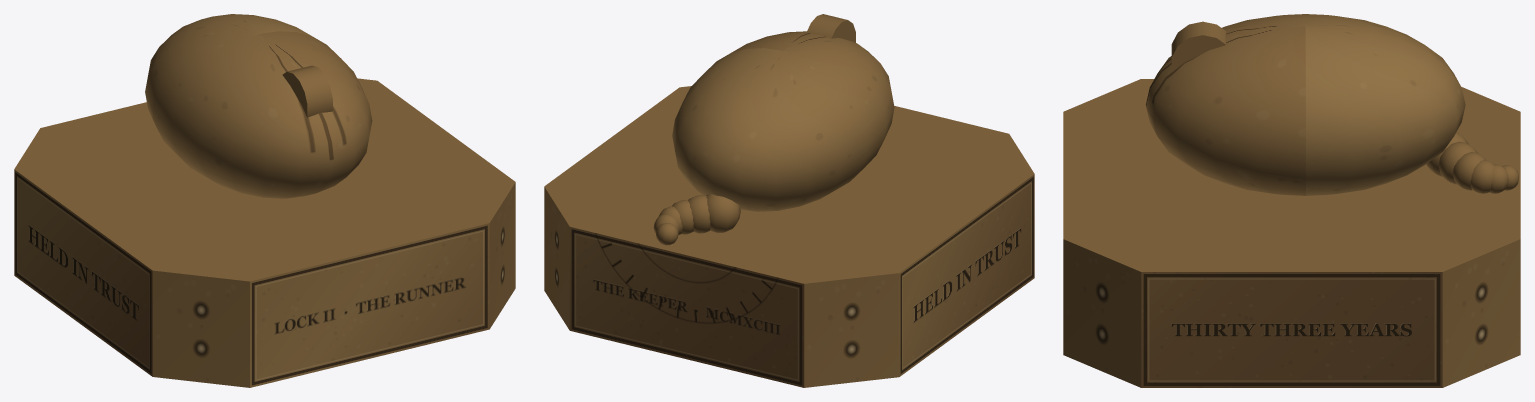
Rendered from witnessRunner.glb.
3 renders of one model, left to right at view 1: azimuth 30°, elevation 25°; view 2: azimuth 150°, elevation 25°; view 3: azimuth 270°, elevation 25°, orthographic. The views are drawn at different scales.
Visible parts, largest first — view 1: witnessRunner; view 2: witnessRunner; view 3: witnessRunner.
Part boxes in pixels (x1,y1,x2,y2): witnessRunner: (14,14,515,387); witnessRunner: (544,14,1034,387); witnessRunner: (1063,14,1520,387).
Bounding box in the file's own units: 0.1 × 0.064 × 0.1.
Materials: 1 (1 with a texture image).
